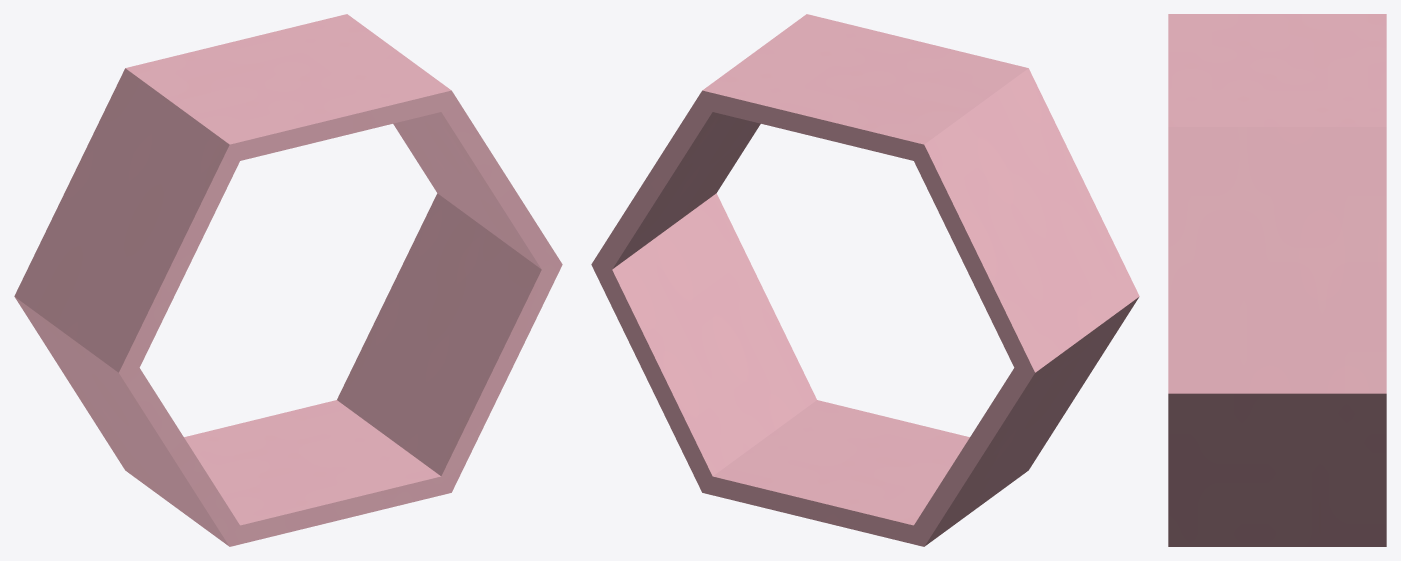
Rendered from Wall_Shelf_03_03.fbx.
3 views of the same model, side by side, from view 1: azimuth 30°, elevation 25°; view 2: azimuth 150°, elevation 25°; view 3: azimuth 270°, elevation 25° (orthographic). The views are drawn at different scales.
Parts seen in each view (by area): view 1: Wall_Shelf_03_03; view 2: Wall_Shelf_03_03; view 3: Wall_Shelf_03_03.
Boxes of the visible parts, x1,y1,x2,y2 form: Wall_Shelf_03_03: (14, 14, 562, 546); Wall_Shelf_03_03: (591, 14, 1139, 546); Wall_Shelf_03_03: (1168, 14, 1386, 546).
Size of the model in its own units: 0.8223 by 0.7122 by 0.3353.
